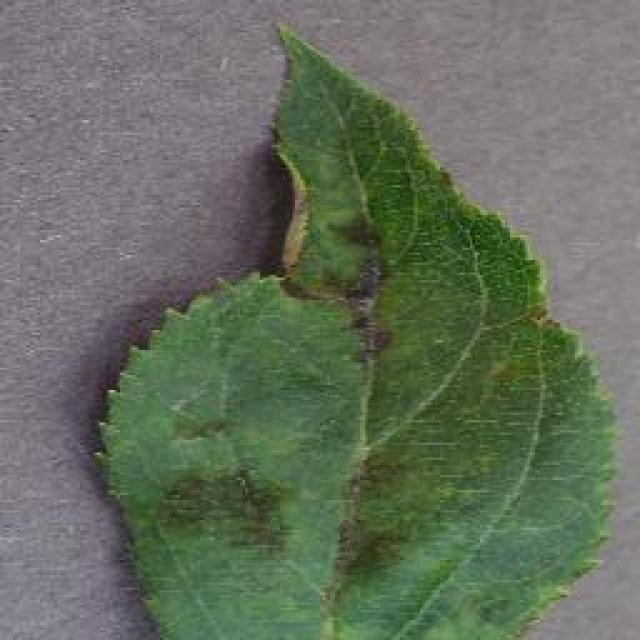apple scab disease: (92, 20, 620, 638)
